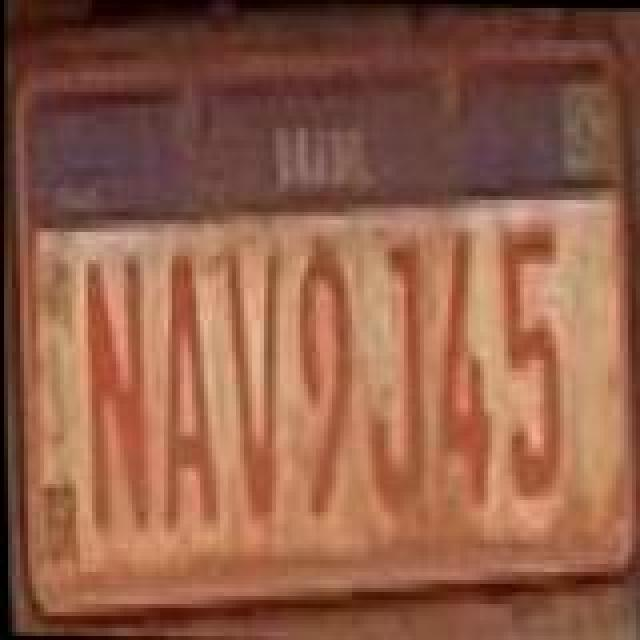4: (430, 226, 498, 518)
5: (496, 222, 568, 506)
9: (292, 234, 356, 522)
A: (158, 246, 222, 530)
J: (360, 242, 432, 518)
N: (78, 246, 150, 530)
V: (218, 244, 282, 524)
